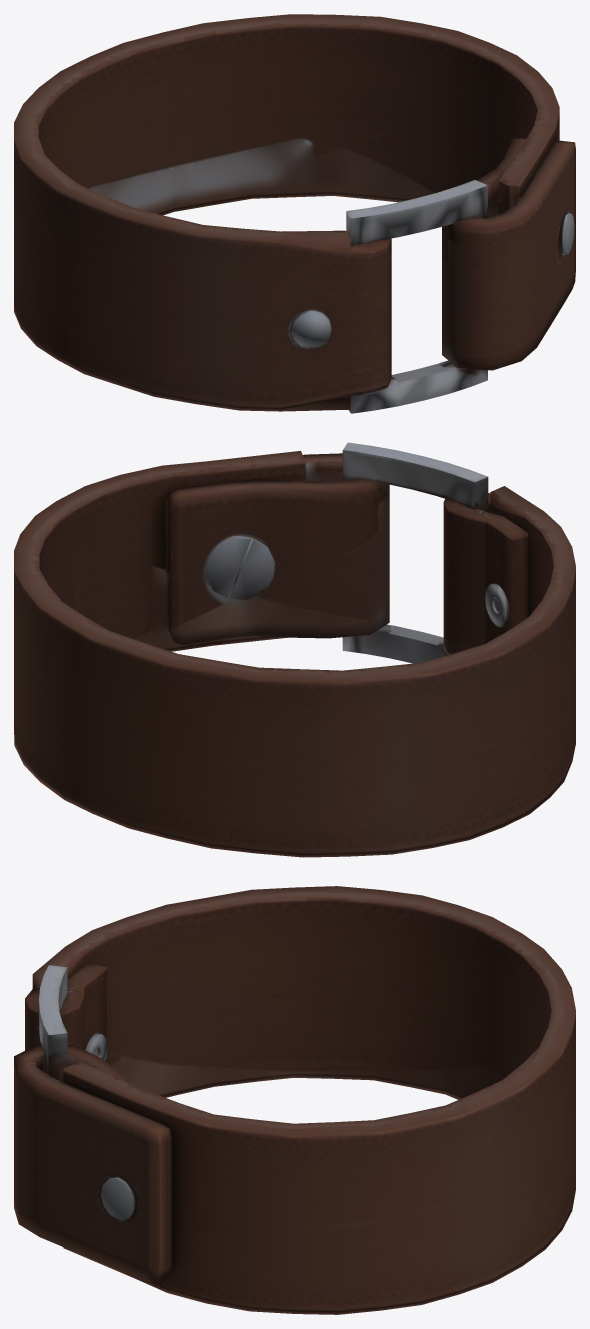
The model's file is belt.glb.
The picture shows the model from 3 angles, top to bottom: view 1: azimuth 30°, elevation 25°; view 2: azimuth 150°, elevation 25°; view 3: azimuth 270°, elevation 25°; orthographic projection. The views are drawn at different scales.
Parts seen in each view (by area): view 1: polySurface17; view 2: polySurface17; view 3: polySurface17.
Boxes of the visible parts, <box> form: polySurface17: <box>14,14,575,413</box>; polySurface17: <box>14,442,575,857</box>; polySurface17: <box>14,886,575,1314</box>.
Size of the model in its own units: 1 by 0.3873 by 0.9617.
1 material, 1 textured.
